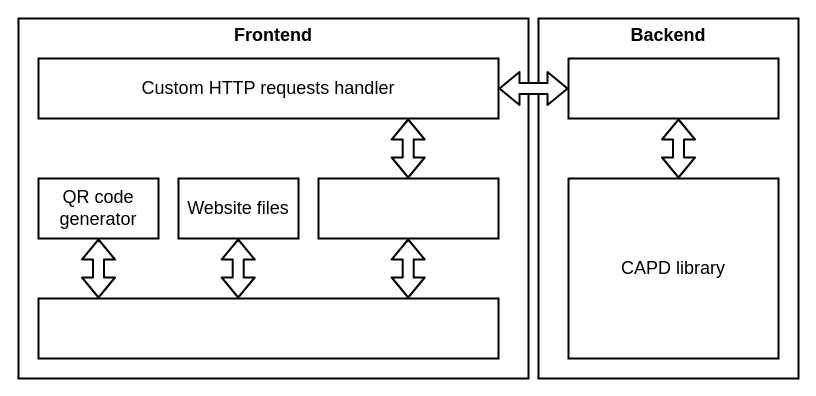
The diagram is 816 pixels wide and 396 high, and some of its shapes have lost their labels. The centre of each missing label's shape, as x and y in pixels:
CAPD entry point: pixel 673 88
HTTP server: pixel 268 328
HTTP session manager: pixel 408 208
